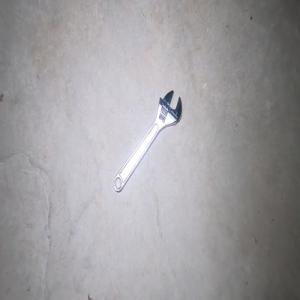Wrench: (113, 90, 181, 192)
